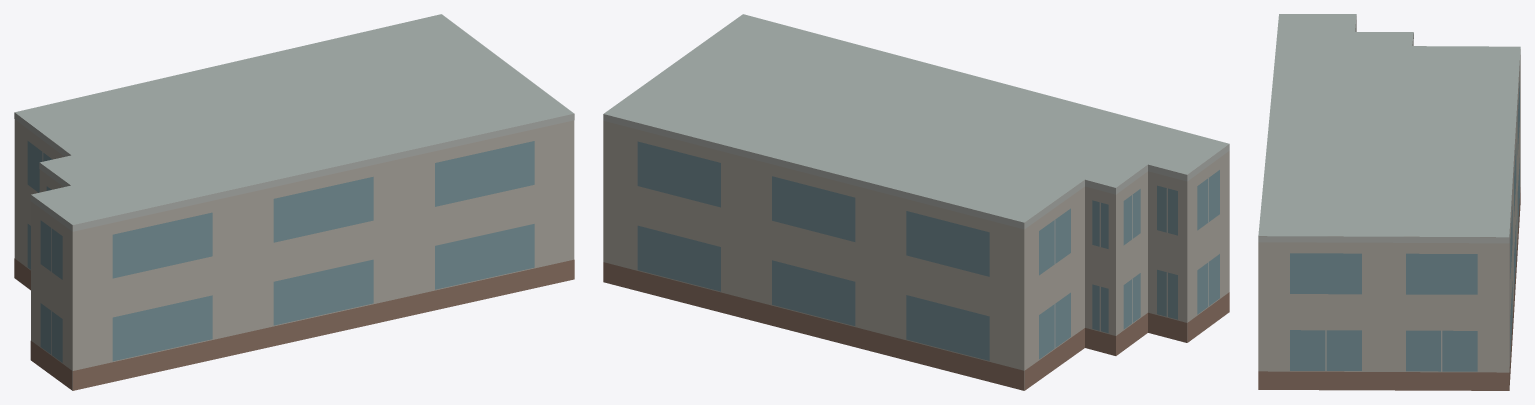
Rendered from survey-upis-32679258.glb.
3 views of the same model, side by side, from view 1: azimuth 30°, elevation 25°; view 2: azimuth 150°, elevation 25°; view 3: azimuth 270°, elevation 25° (orthographic). The views are drawn at different scales.
Visible parts, largest first — view 1: survey-upis-32679258.tmp; view 2: survey-upis-32679258.tmp; view 3: survey-upis-32679258.tmp.
Boxes of the visible parts, x1,y1,x2,y2 form: survey-upis-32679258.tmp: (14, 14, 574, 390); survey-upis-32679258.tmp: (603, 14, 1229, 390); survey-upis-32679258.tmp: (1258, 14, 1520, 390).
Size of the model in its own units: 19.01 by 6.1 by 9.45.
